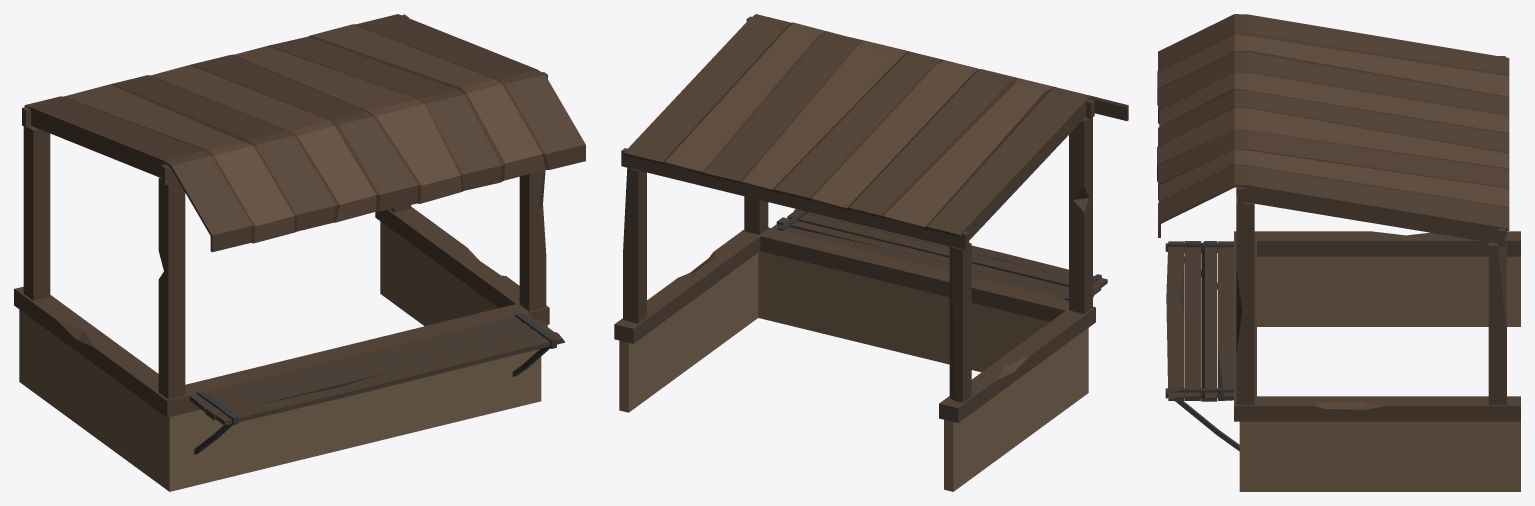
The model's file is SM_Bldg_Farm_Stall_01.fbx.
The picture shows the model from 3 angles, left to right: view 1: azimuth 30°, elevation 25°; view 2: azimuth 150°, elevation 25°; view 3: azimuth 270°, elevation 25°; orthographic projection. The views are drawn at different scales.
Parts seen in each view (by area): view 1: SM_Bldg_Farm_Stall_01; view 2: SM_Bldg_Farm_Stall_01; view 3: SM_Bldg_Farm_Stall_01.
Part boxes in pixels (x1,y1,x2,y2): SM_Bldg_Farm_Stall_01: (14, 14, 585, 491); SM_Bldg_Farm_Stall_01: (614, 14, 1128, 491); SM_Bldg_Farm_Stall_01: (1157, 14, 1520, 491).
Size of the model in its own units: 361 by 296 by 317.
